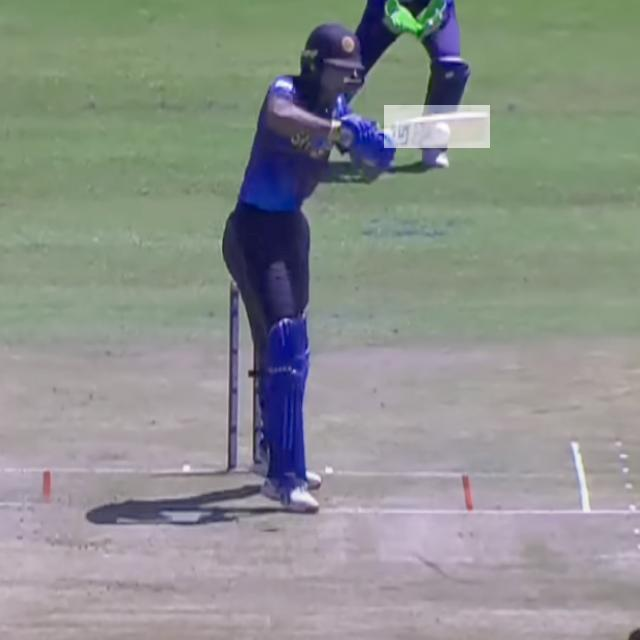bat: (386, 105, 489, 147)
